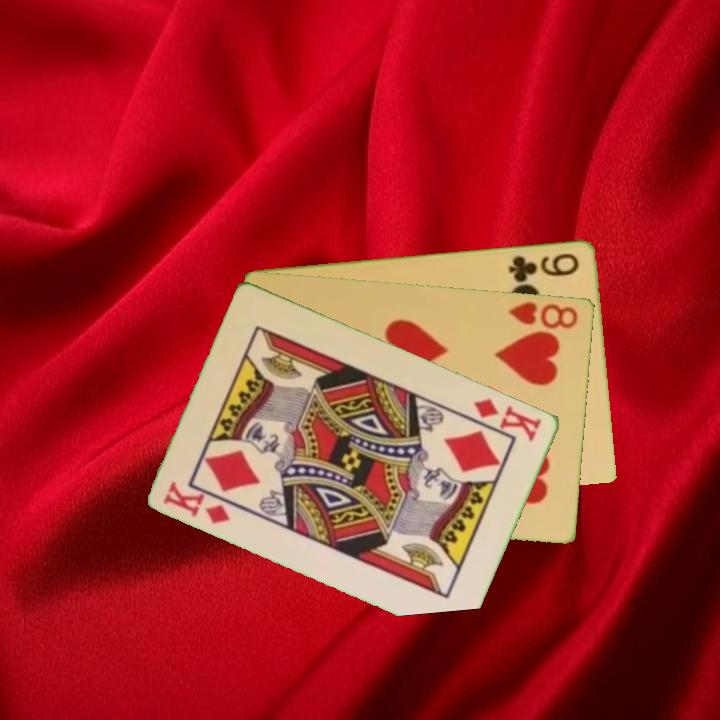8h: (505, 297, 581, 332)
9c: (505, 249, 582, 281)
Kd: (470, 394, 545, 444), (160, 477, 234, 527)
